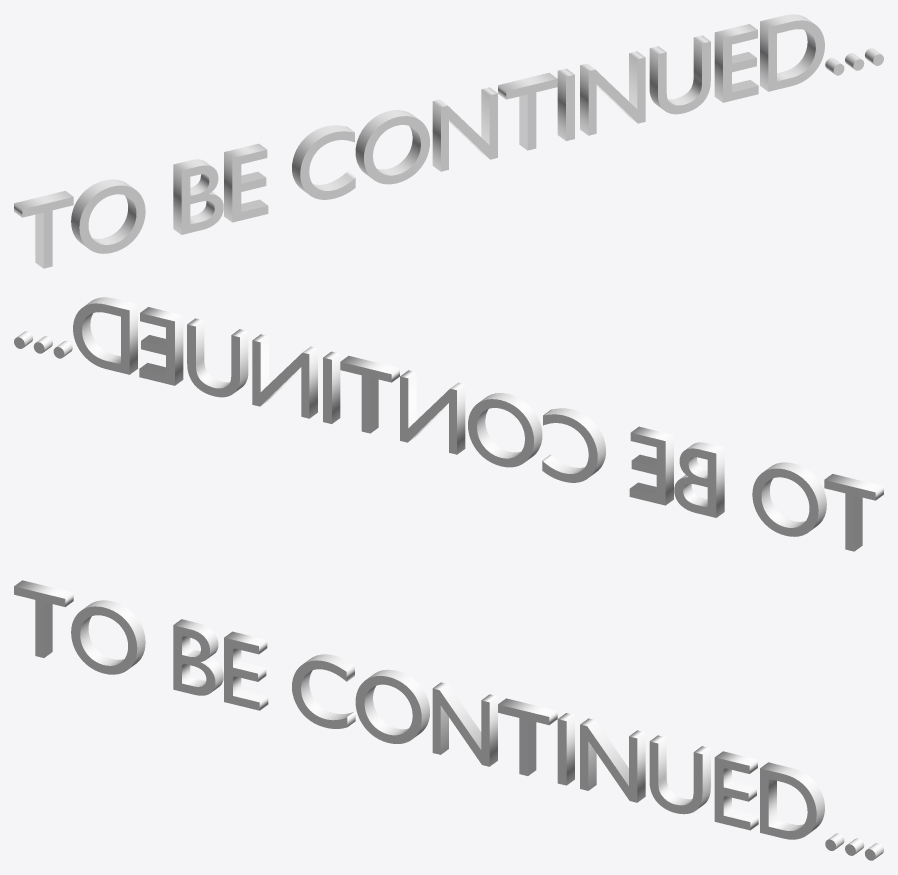
File: tbc.glb
The picture shows the model from 3 angles, top to bottom: view 1: azimuth 30°, elevation 25°; view 2: azimuth 150°, elevation 25°; view 3: azimuth 330°, elevation 25°; orthographic projection.
Parts seen in each view (by area): view 1: Text; view 2: Text; view 3: Text.
Boxes of the visible parts, box(x1,y1,x2,y2) form: Text: box(14, 14, 883, 268); Text: box(14, 297, 883, 551); Text: box(14, 580, 883, 860).
Size of the model in its own units: 9.54 by 0.7 by 0.16.
1 material, 1 textured.
